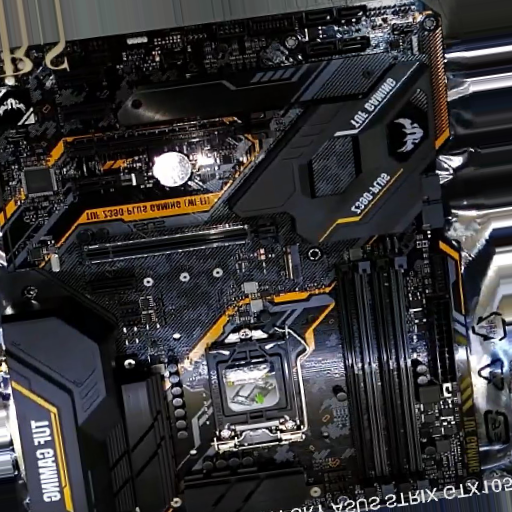CPU: (207, 328, 306, 448)
GPU: (84, 216, 282, 267), (65, 112, 275, 160)
MOTHERBOARD: (4, 3, 480, 512)
RAM: (335, 255, 427, 484)
SSD: (284, 243, 304, 284)
